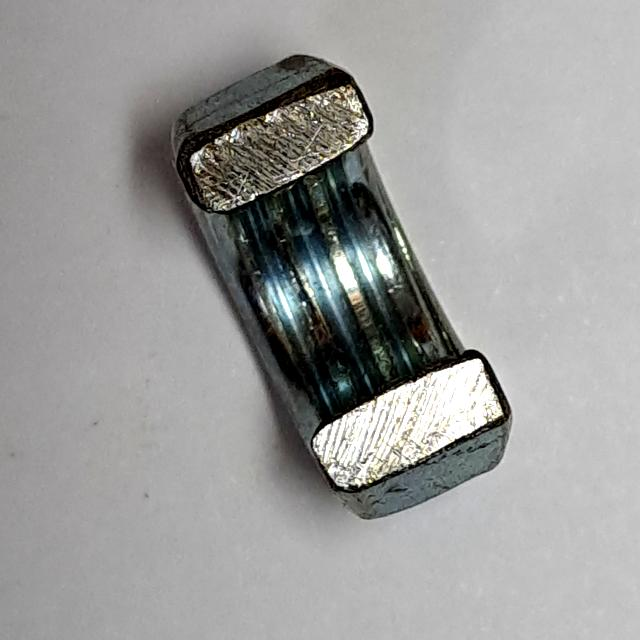Side-Fracture: (160, 34, 531, 542)
